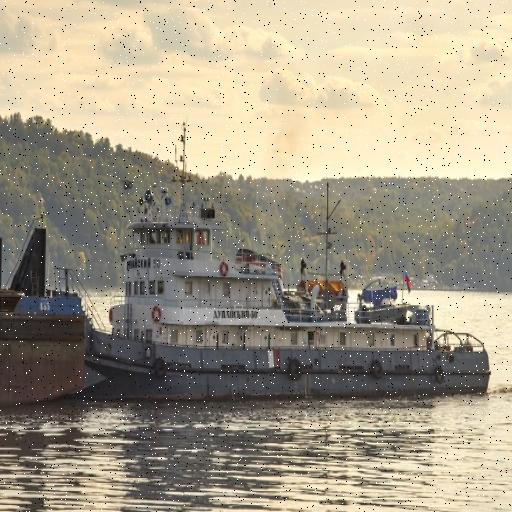tugboat: (83, 174, 496, 407)
